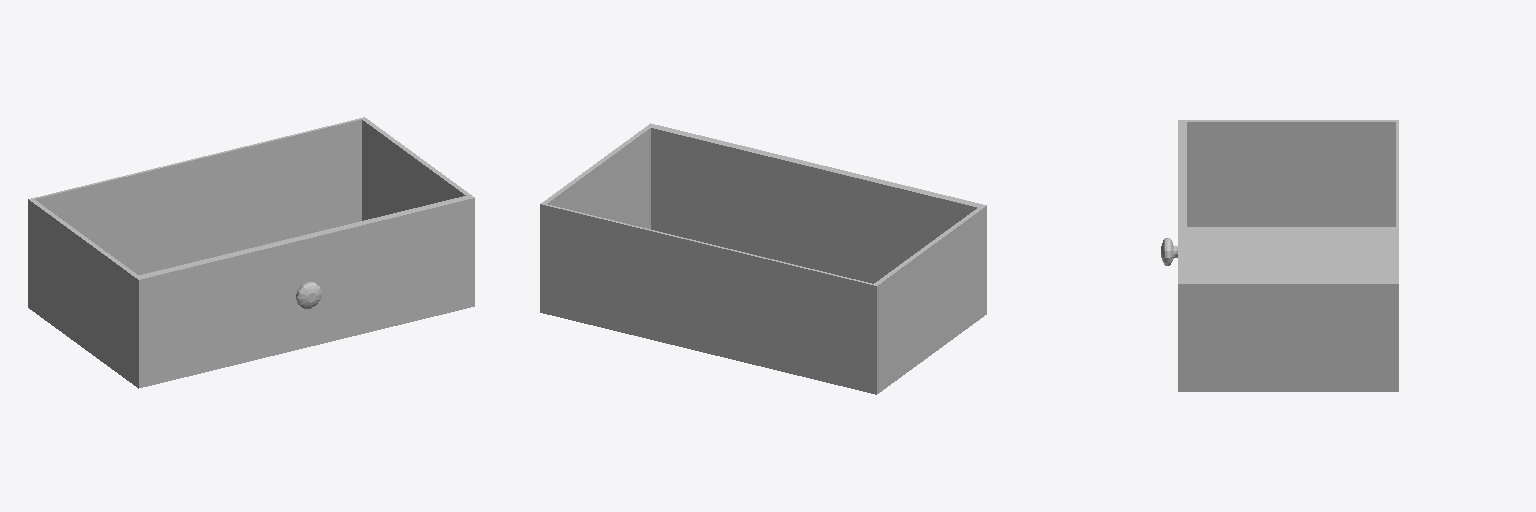
The model's file is DrawerTopRight.obj.
3 renders of one model, left to right at view 1: azimuth 30°, elevation 25°; view 2: azimuth 150°, elevation 25°; view 3: azimuth 270°, elevation 25°, orthographic.
Visible parts, largest first — view 1: Plane_007; view 2: Plane_007; view 3: Plane_007.
Part boxes in pixels (x1,y1,x2,y2): Plane_007: (28, 117, 474, 388); Plane_007: (540, 123, 986, 394); Plane_007: (1161, 120, 1398, 391).
Bounding box in the file's own units: 0.5775 × 0.1782 × 0.353.